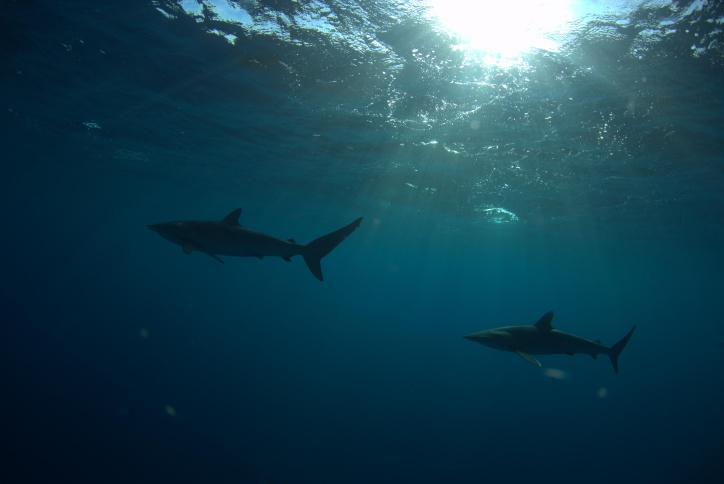Sedoso: (119, 203, 376, 293)
